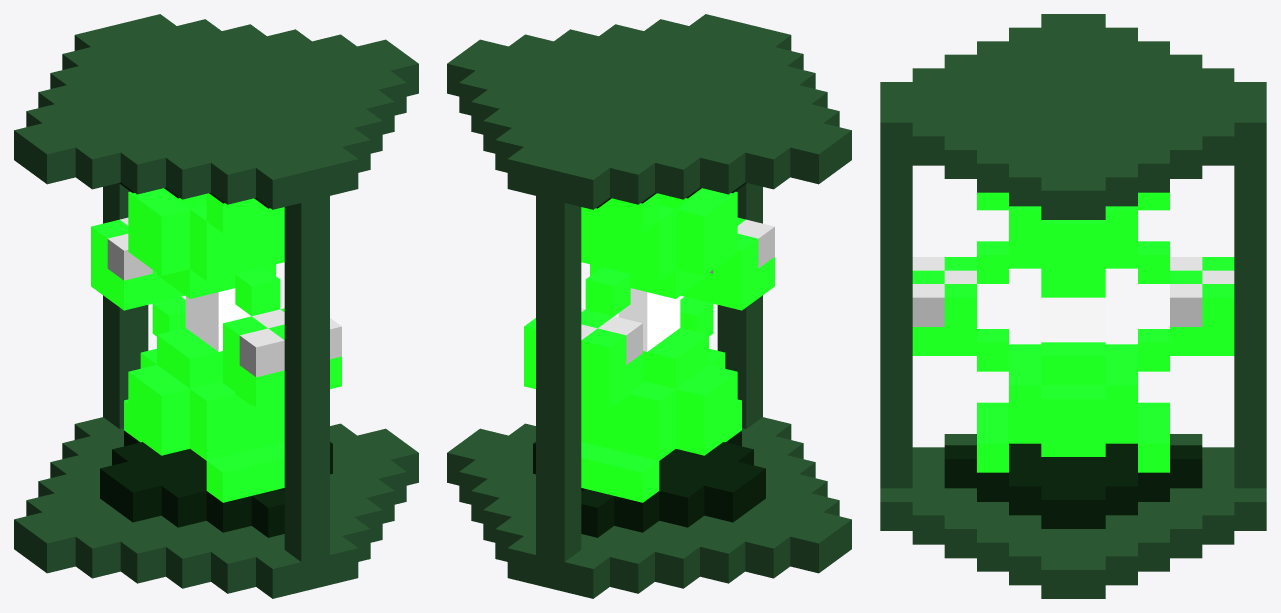
File: monolith_engine.glb
The picture shows the model from 3 angles, left to right: view 1: azimuth 30°, elevation 25°; view 2: azimuth 150°, elevation 25°; view 3: azimuth 270°, elevation 25°; orthographic projection. The views are drawn at different scales.
Visible parts, largest first — view 1: main; view 2: main; view 3: main.
Boxes of the visible parts, left/top/right/bottom form: main: left=14, top=14, right=418, bottom=598; main: left=447, top=14, right=851, bottom=598; main: left=880, top=14, right=1266, bottom=598.
Size of the model in its own units: 13 by 14 by 12.
